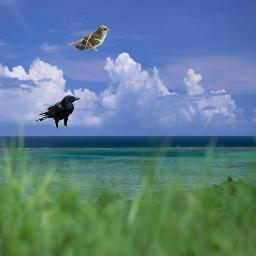Crow: (36, 95, 81, 130)
Cuckoo: (68, 25, 111, 51)
